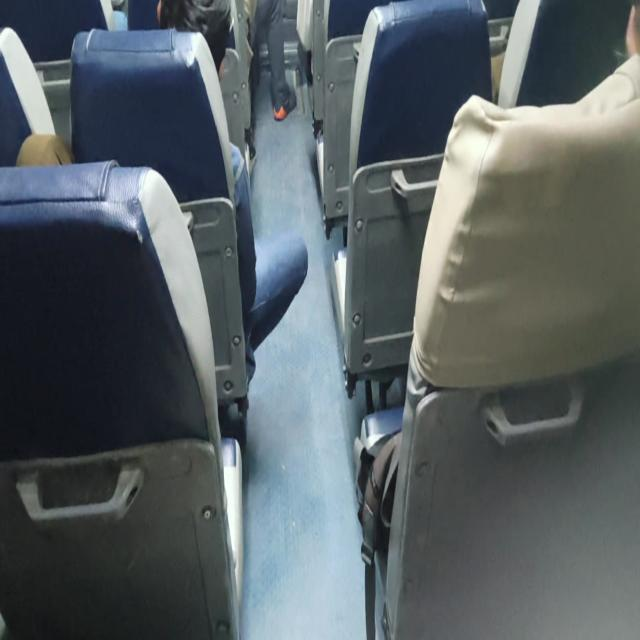person: (367, 2, 639, 636), (16, 5, 308, 431), (156, 1, 308, 387), (248, 0, 298, 121), (157, 0, 232, 79), (16, 132, 74, 166)
